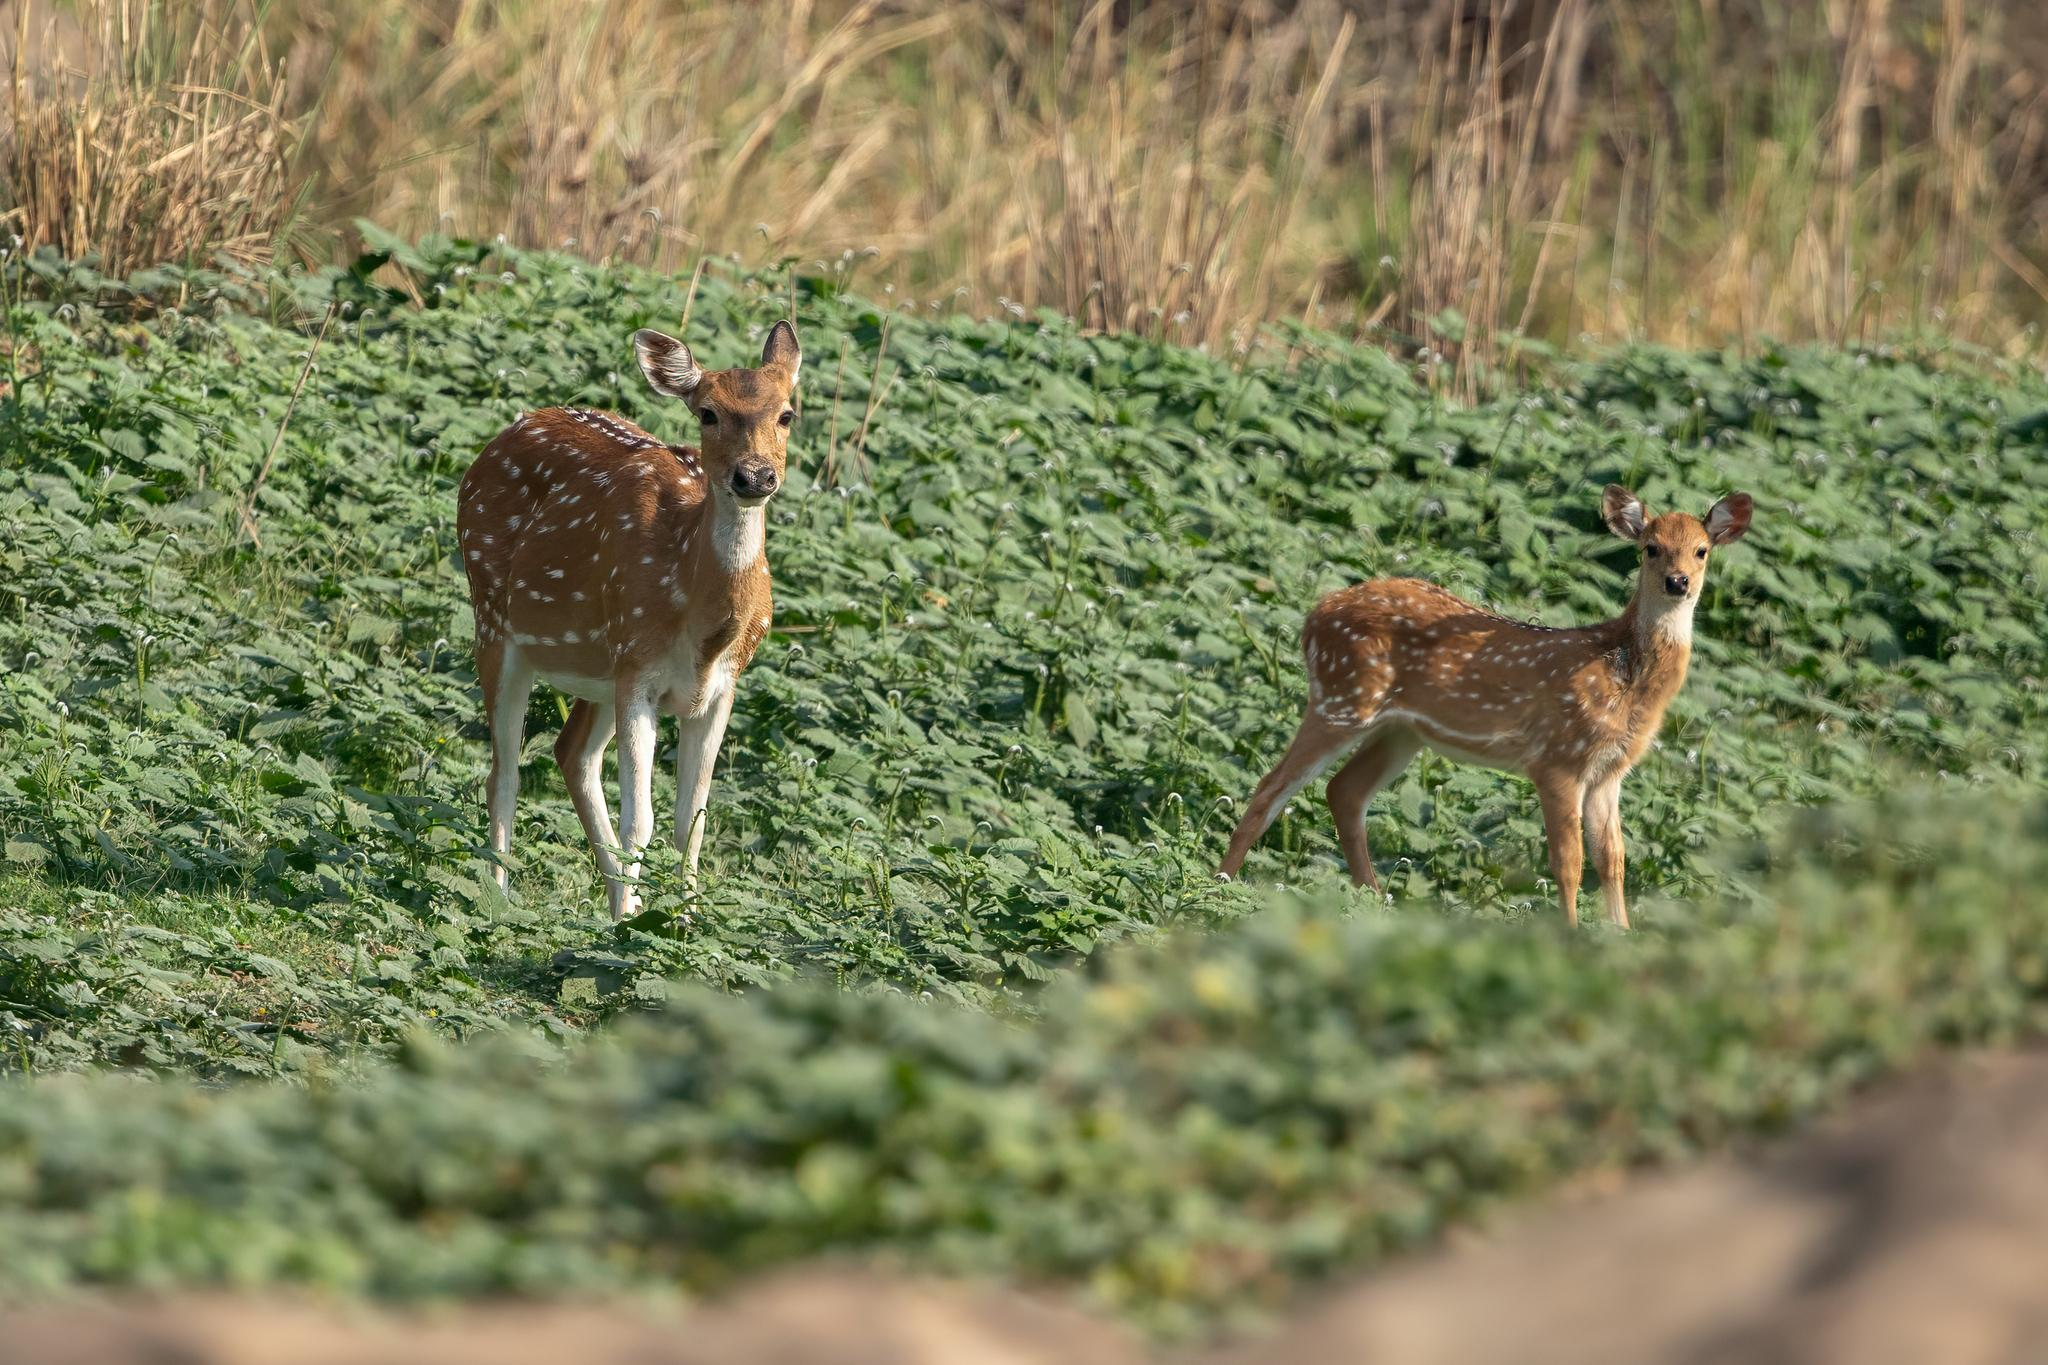Deer: (1221, 484, 1753, 926), (458, 321, 799, 916)
